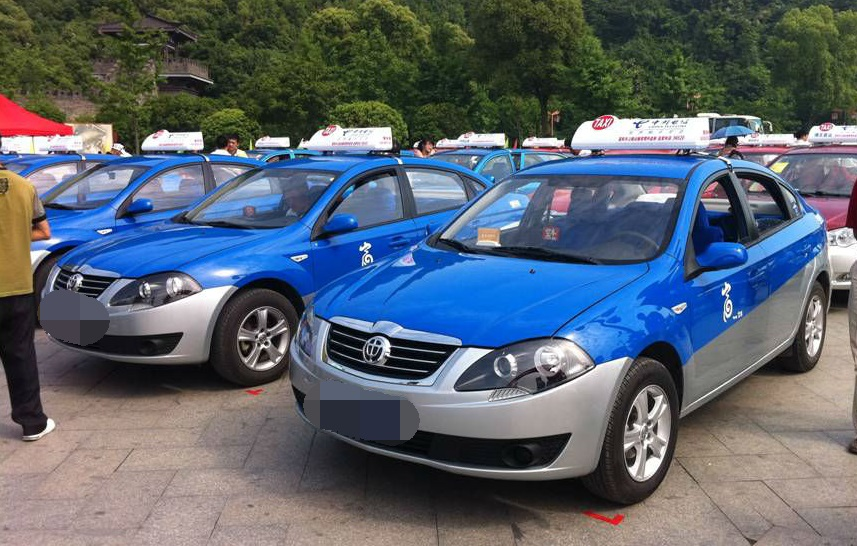taxi: (286, 110, 834, 506)
